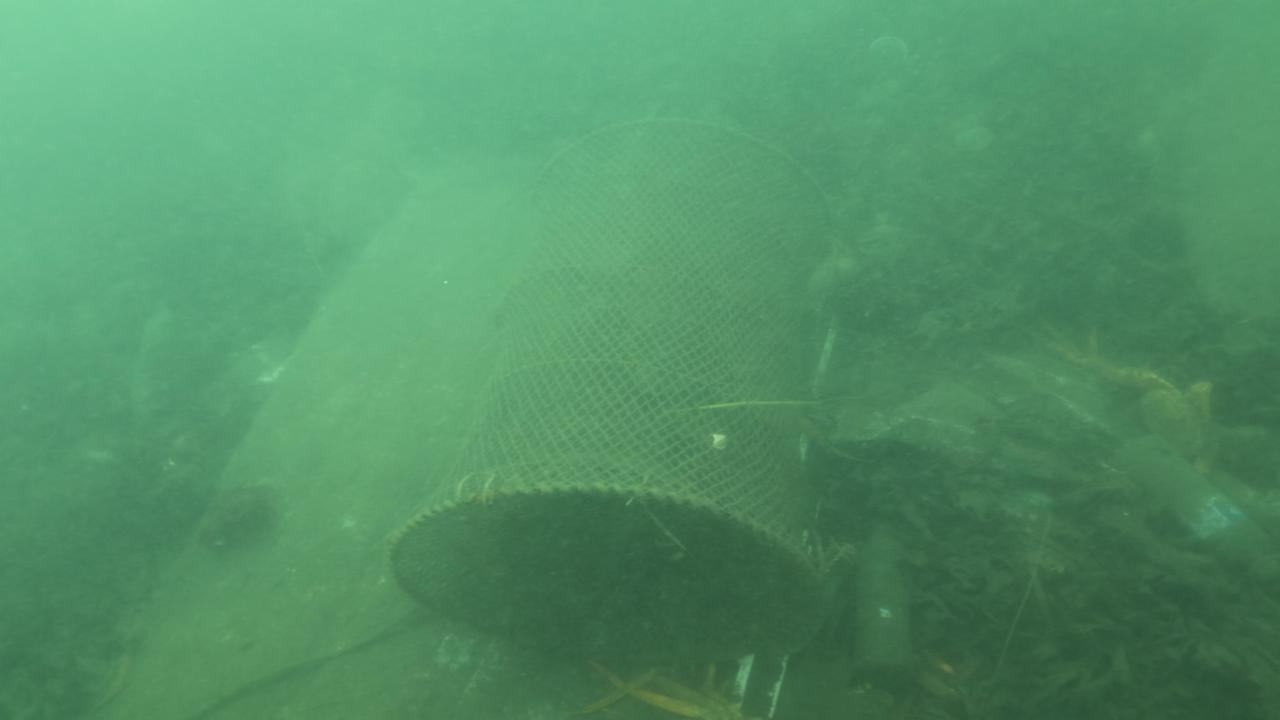spring fish trap: (382, 115, 838, 679)
